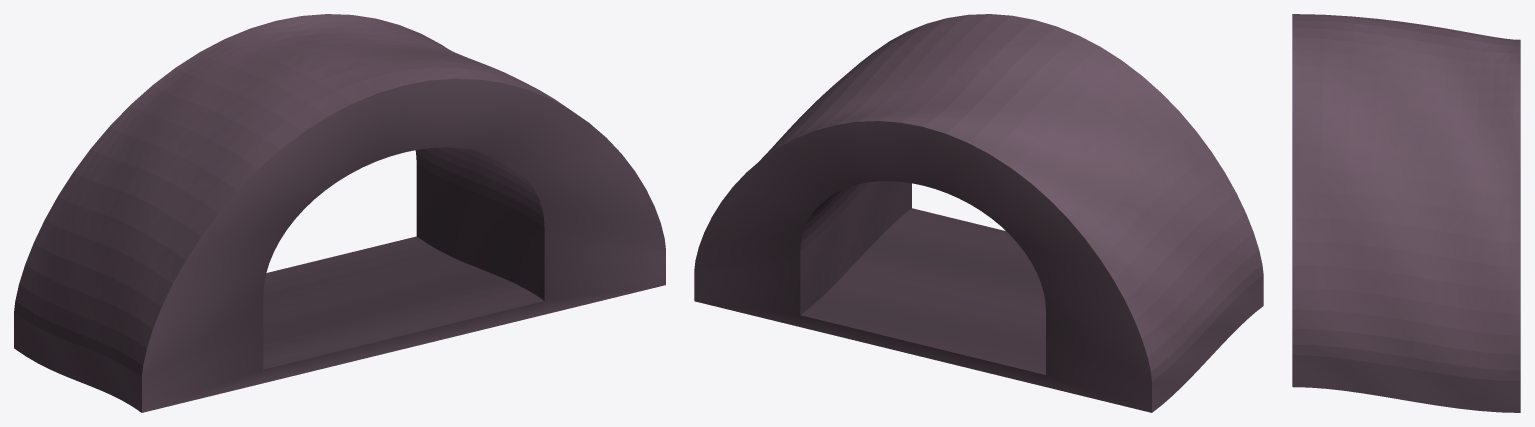
Rendered from grade_down_terrain.glb.
The picture shows the model from 3 angles, left to right: view 1: azimuth 30°, elevation 25°; view 2: azimuth 150°, elevation 25°; view 3: azimuth 270°, elevation 25°; orthographic projection. The views are drawn at different scales.
Visible parts, largest first — view 1: TerrainRoof.010; view 2: TerrainRoof.010; view 3: TerrainRoof.010.
Boxes of the visible parts, x1,y1,x2,y2 form: TerrainRoof.010: (14, 14, 665, 412); TerrainRoof.010: (694, 14, 1263, 412); TerrainRoof.010: (1292, 14, 1520, 412).
Size of the model in its own units: 28.4 by 15.15 by 12.
